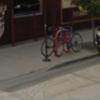bicycles: (52, 27, 83, 57)
